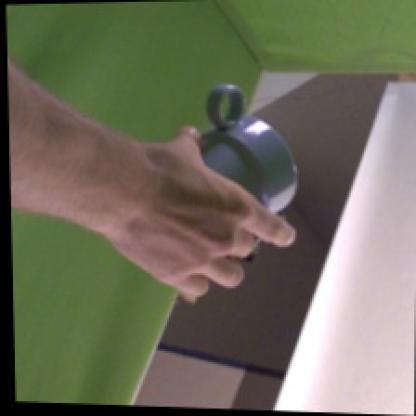Hand: (110, 126, 298, 298)
